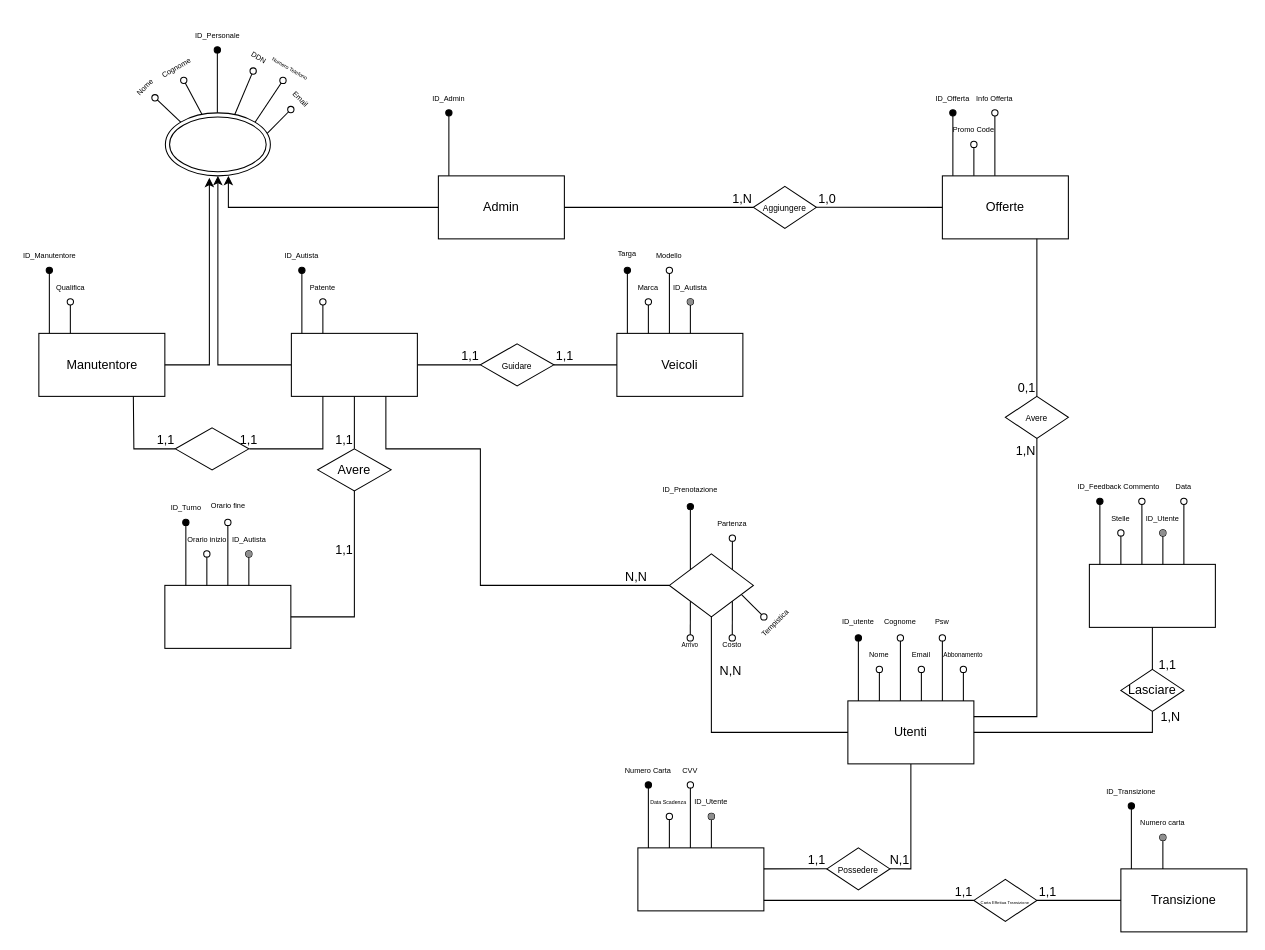
Some shapes in this 1265 by 950 pixel diagram are drawn without their labels. Each missing label, with the centre of its shape:
"Autisti" goes at point 353,364.
"Carta" goes at point 700,879.
"Comunicare Guasto" goes at point 211,448.
"Feedback" goes at point 1151,595.
"Personale" goes at point 217,144.
"Prenotare" goes at point 710,585.
"Turni" goes at point 227,616.
